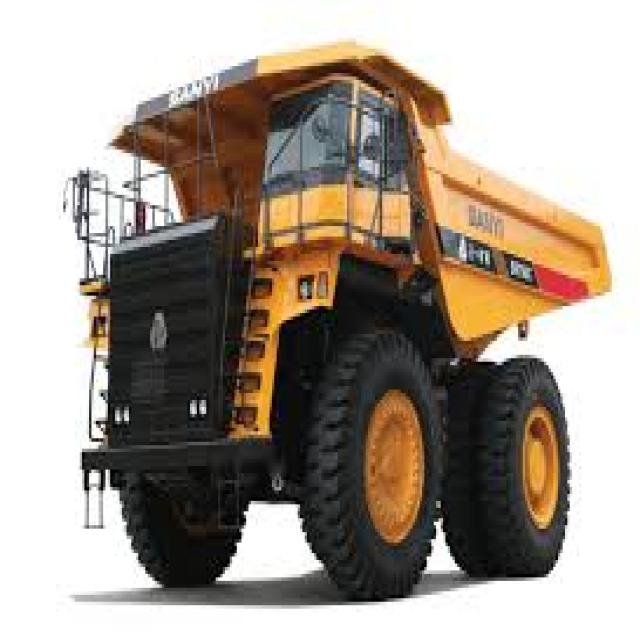dump_truck: (62, 38, 608, 601)
